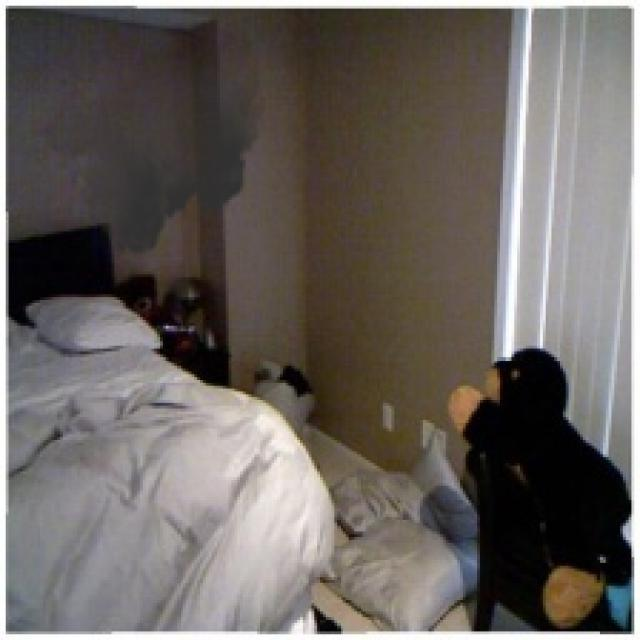Smoke: (37, 14, 266, 266)
